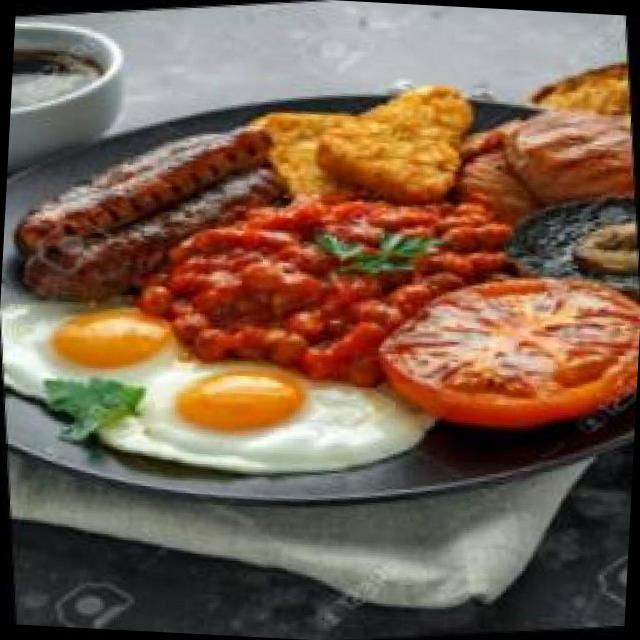fried_eggs: (1, 266, 412, 502)
triangle_hash_brown: (264, 82, 463, 205)
